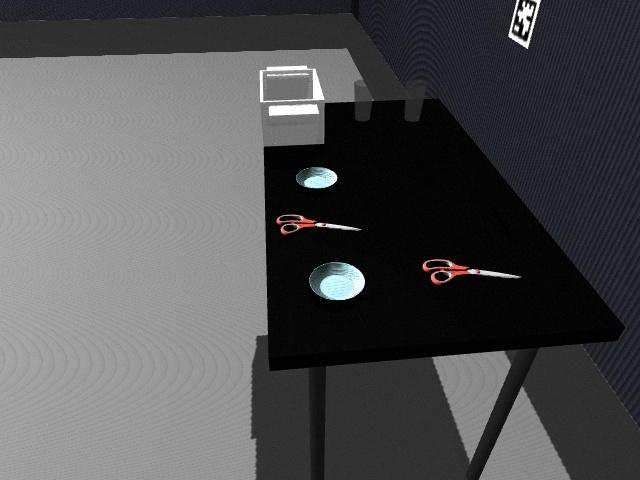cup: (404, 84, 426, 123), (354, 80, 373, 122)
plate: (307, 261, 366, 302), (294, 166, 339, 190), (315, 262, 354, 281)
scissors: (422, 256, 521, 285), (278, 214, 360, 235)
